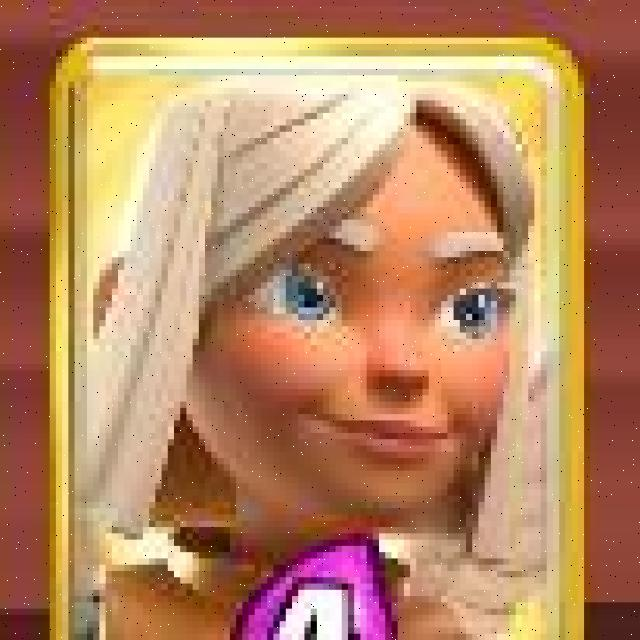Battle_Healer: (51, 36, 588, 640)
